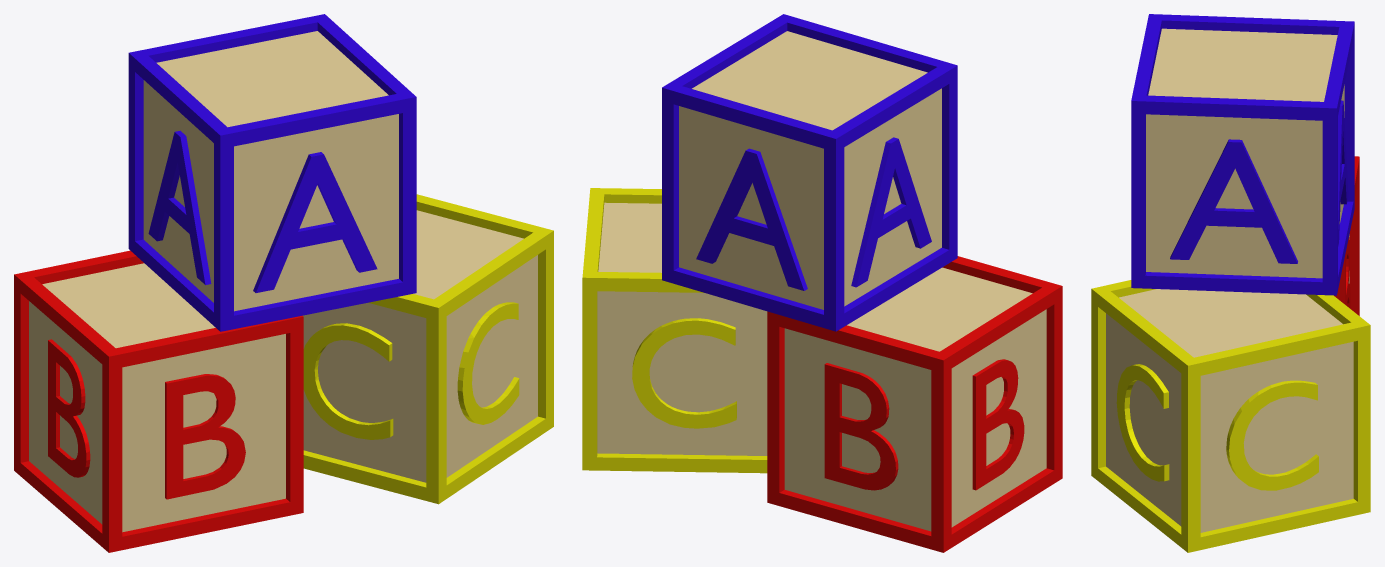
The model's file is blocks.fbx.
3 views of the same model, side by side, from view 1: azimuth 30°, elevation 25°; view 2: azimuth 150°, elevation 25°; view 3: azimuth 270°, elevation 25° (orthographic). The views are drawn at different scales.
Visible parts, largest first — view 1: Block_B; view 2: Block_B; view 3: Block_B.
Boxes of the visible parts, x1,y1,x2,y2 form: Block_B: [14, 14, 553, 552]; Block_B: [582, 14, 1062, 552]; Block_B: [1091, 14, 1370, 552].
Bounding box in the file's own units: 494 × 400 × 270.
